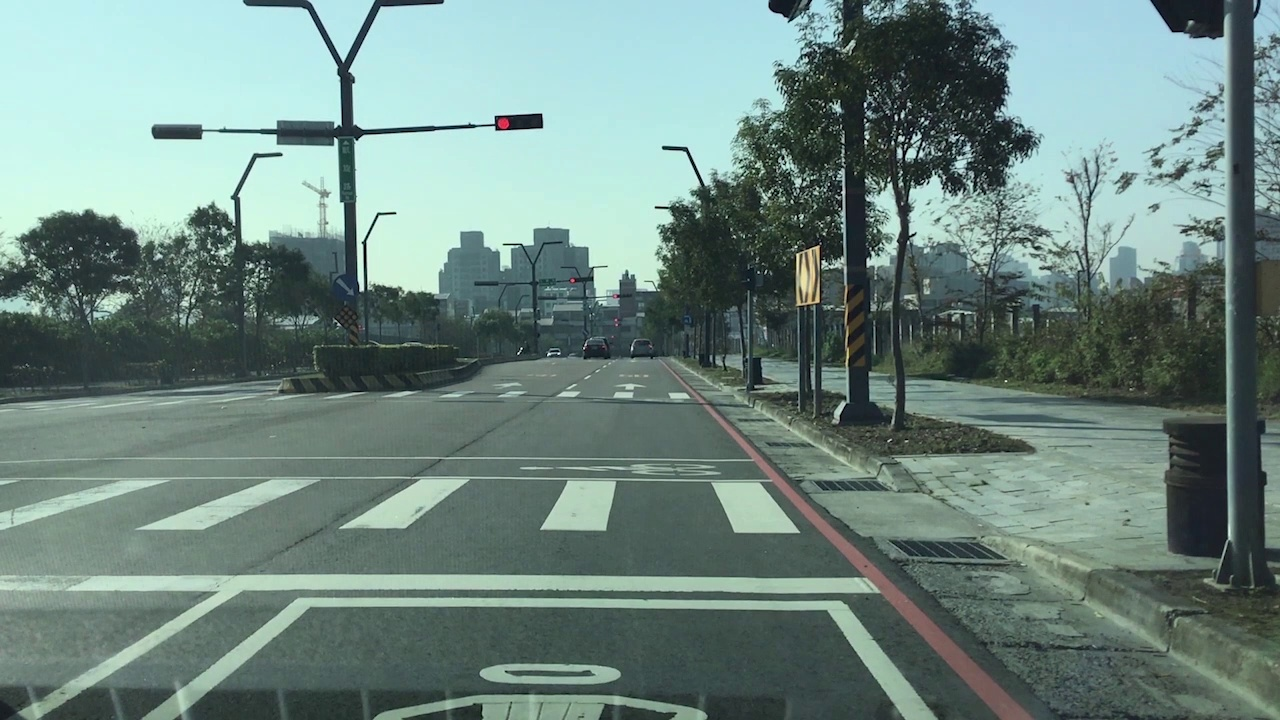Pedestrian_Crossing: (23, 582, 928, 720), (2, 472, 782, 536), (378, 382, 679, 395)
